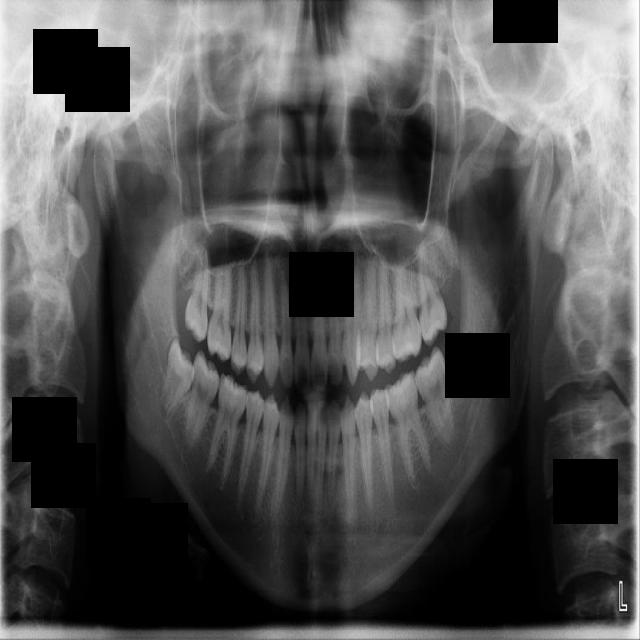73: (620, 614, 628, 624)
BioHorizons Implant: (416, 234, 448, 348)
Blue Sky Bio Implant: (410, 345, 459, 449)
Caries: (185, 244, 210, 343)
Implant: (182, 349, 224, 450)
Keystone Dental Implant: (153, 337, 203, 419)
